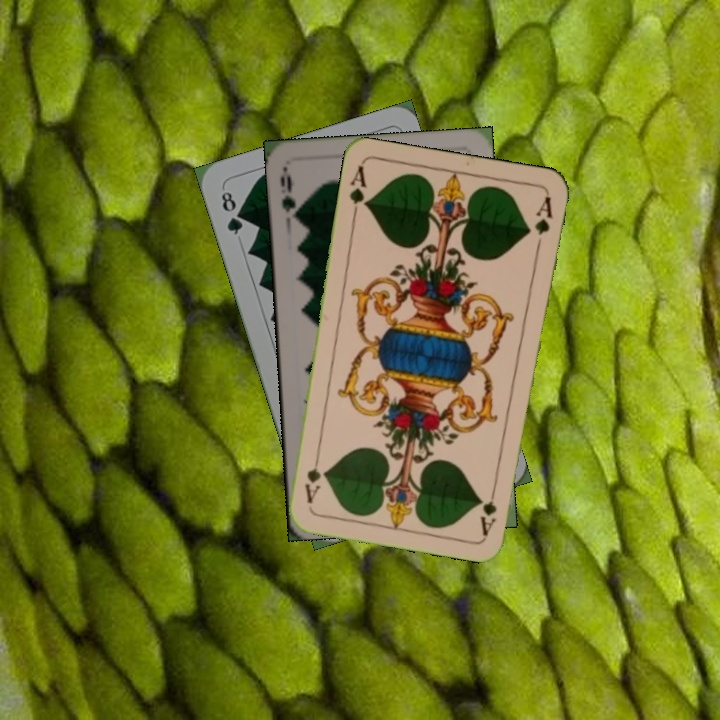G8: (217, 187, 245, 238)
G9: (276, 165, 303, 223)
GA: (345, 162, 371, 221), (477, 478, 500, 537)
